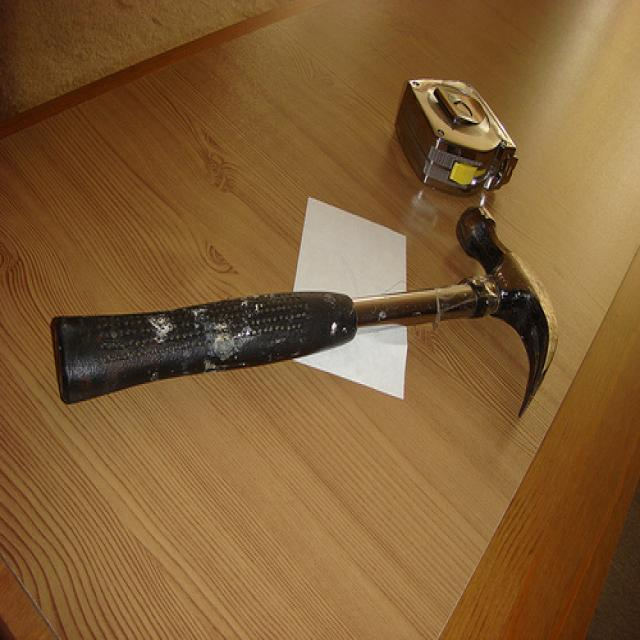hammer: (43, 200, 564, 426)
